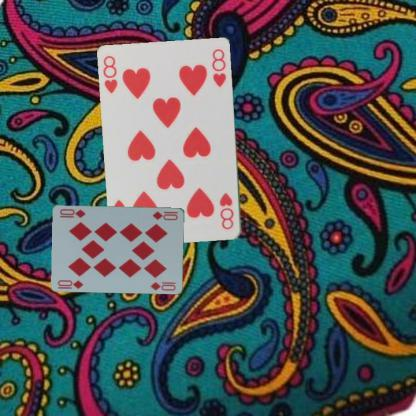10d: (150, 208, 179, 222), (55, 278, 85, 289)
8h: (217, 190, 236, 231), (101, 53, 119, 95)
